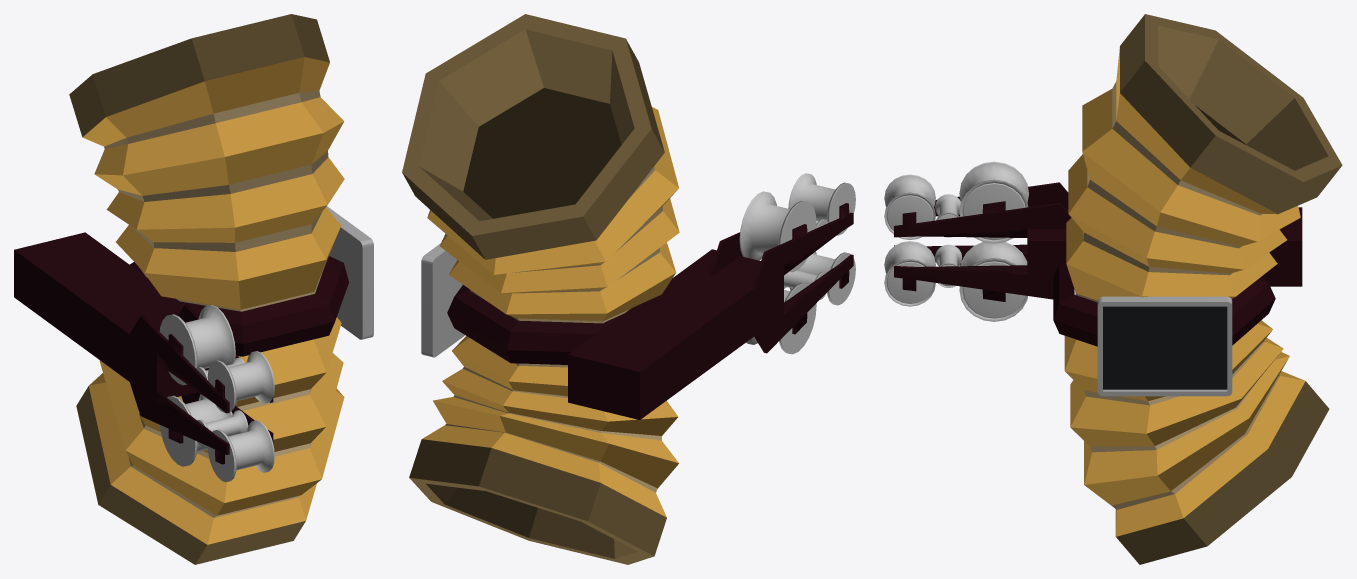
The model's file is PlayerAnimation_Move_Left.fbx.
The picture shows the model from 3 angles, left to right: view 1: azimuth 30°, elevation 25°; view 2: azimuth 150°, elevation 25°; view 3: azimuth 270°, elevation 25°; orthographic projection. The views are drawn at different scales.
Parts seen in each view (by area): view 1: Original; view 2: Original; view 3: Original.
Boxes of the visible parts, x1,y1,x2,y2 form: Original: (14,14,373,564); Original: (402,14,855,564); Original: (884,14,1342,564).
Bounding box in the file's own units: 227 × 441 × 363.
